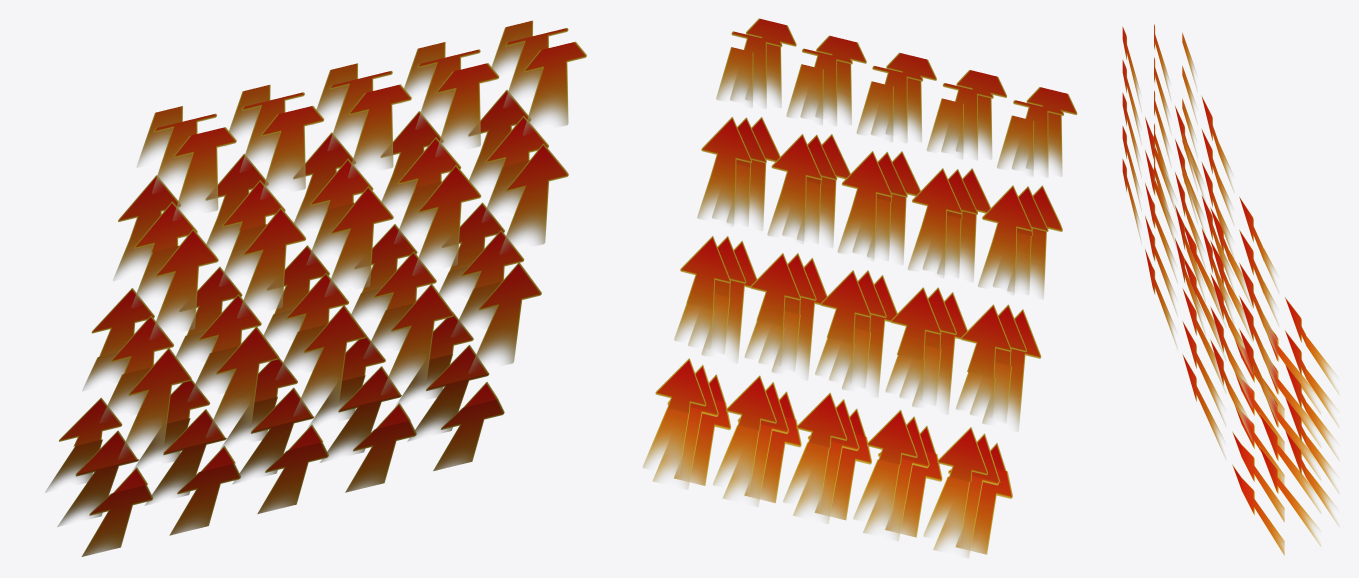
3 renders of one model, left to right at view 1: azimuth 30°, elevation 25°; view 2: azimuth 150°, elevation 25°; view 3: azimuth 270°, elevation 25°, orthographic. The views are drawn at different scales.
Parts seen in each view (by area): view 1: Object001; view 2: Object001; view 3: Object001.
Part boxes in pixels (bbox=[...]): Object001: bbox=[45, 20, 586, 556]; Object001: bbox=[643, 18, 1077, 558]; Object001: bbox=[1122, 24, 1339, 555].
Size of the model in its own units: 0.6 by 0.6488 by 0.3406.
1 material, 1 textured.
